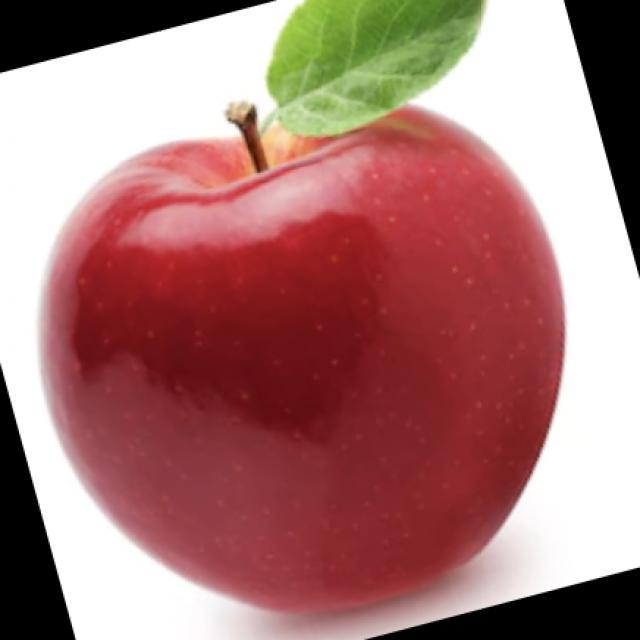Fresh Apple: (55, 100, 553, 613)
